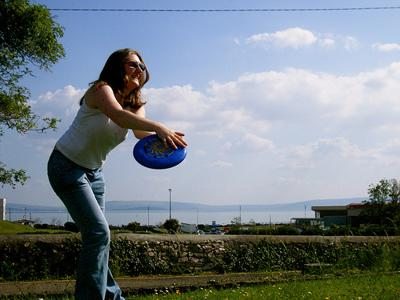person: (47, 48, 188, 300)
